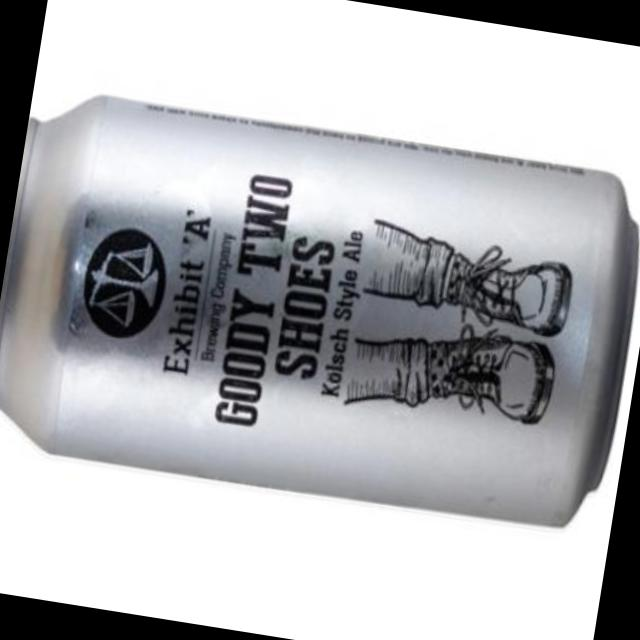metal: (0, 100, 632, 527)
